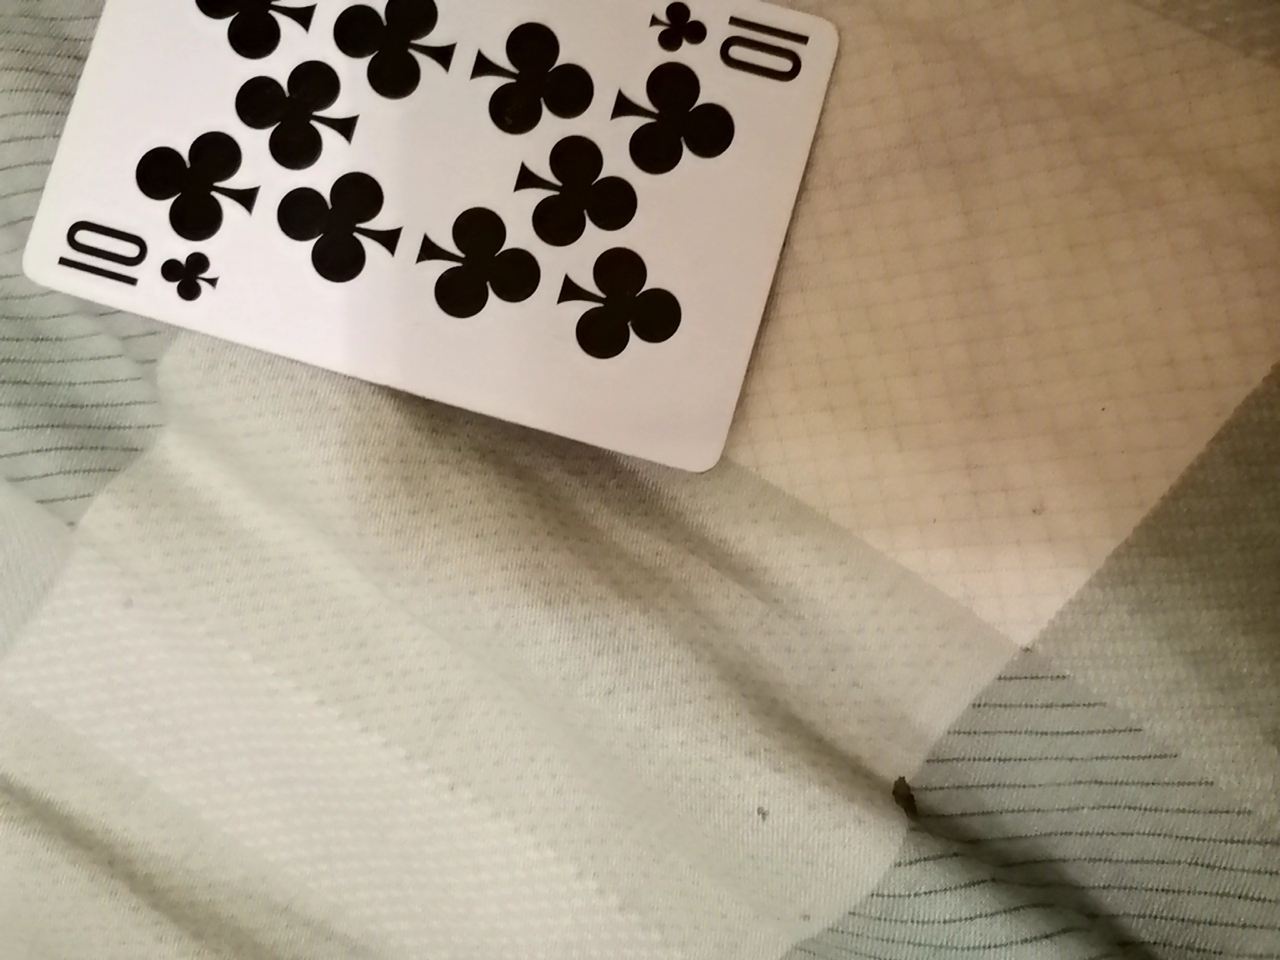mh 10: (33, 2, 860, 474)
